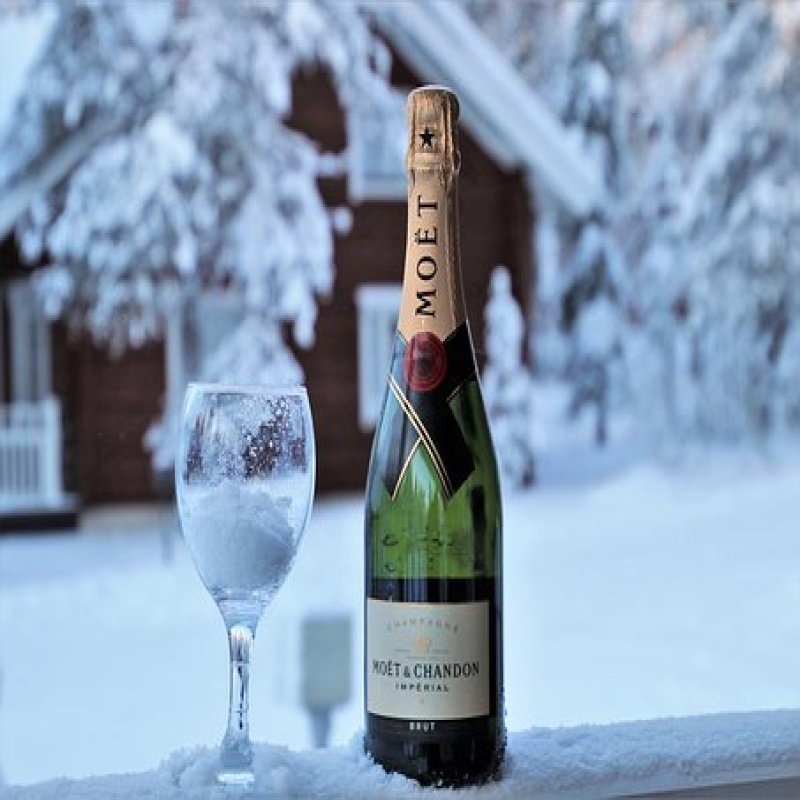wine: (367, 88, 514, 776)
